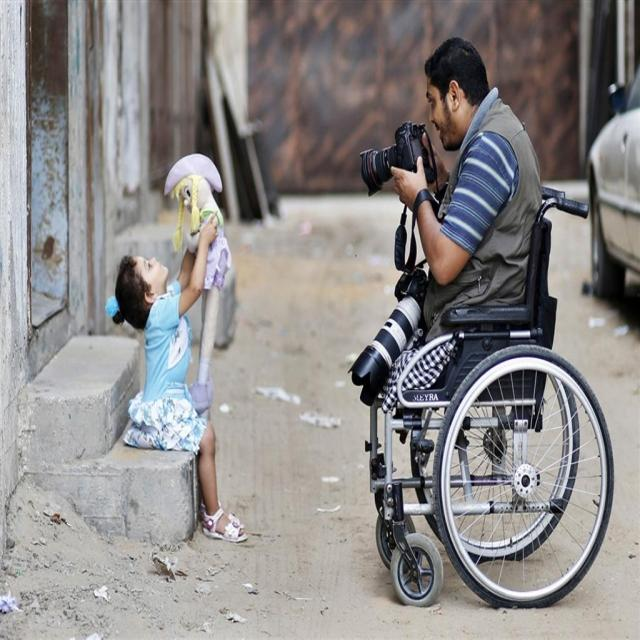nomask: (422, 61, 457, 150), (116, 252, 172, 303)
